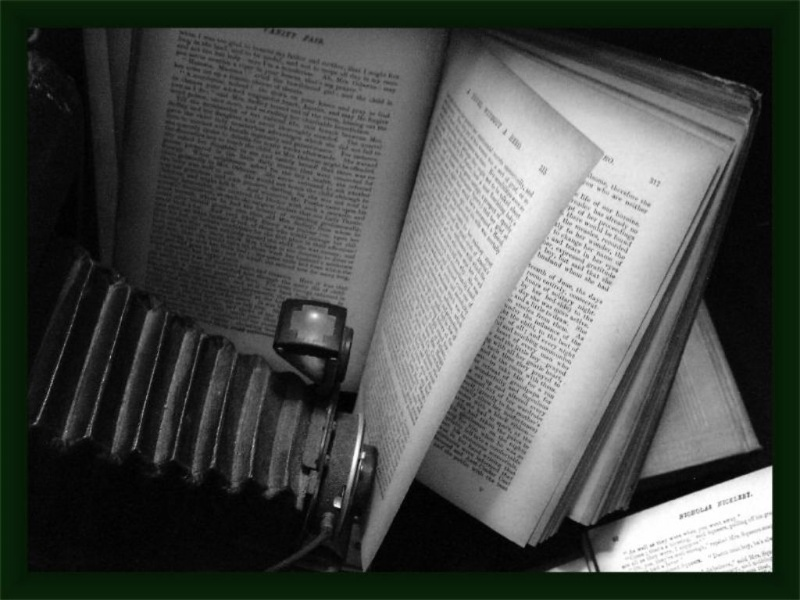book: (58, 28, 765, 542)
